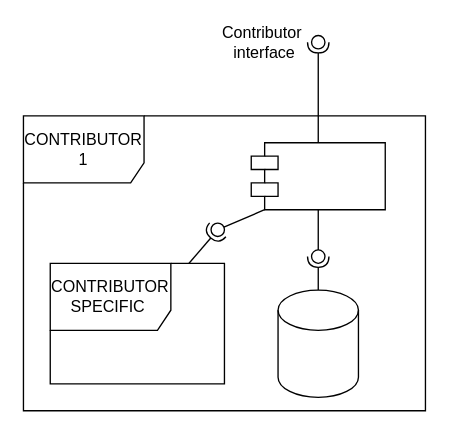
Image size: 449x434. Some labels were removed from this diagram. Each missing label, with the centre of its shape:
"Contributor manager" belongs at (x=317, y=175).
"Database" belongs at (x=317, y=343).
